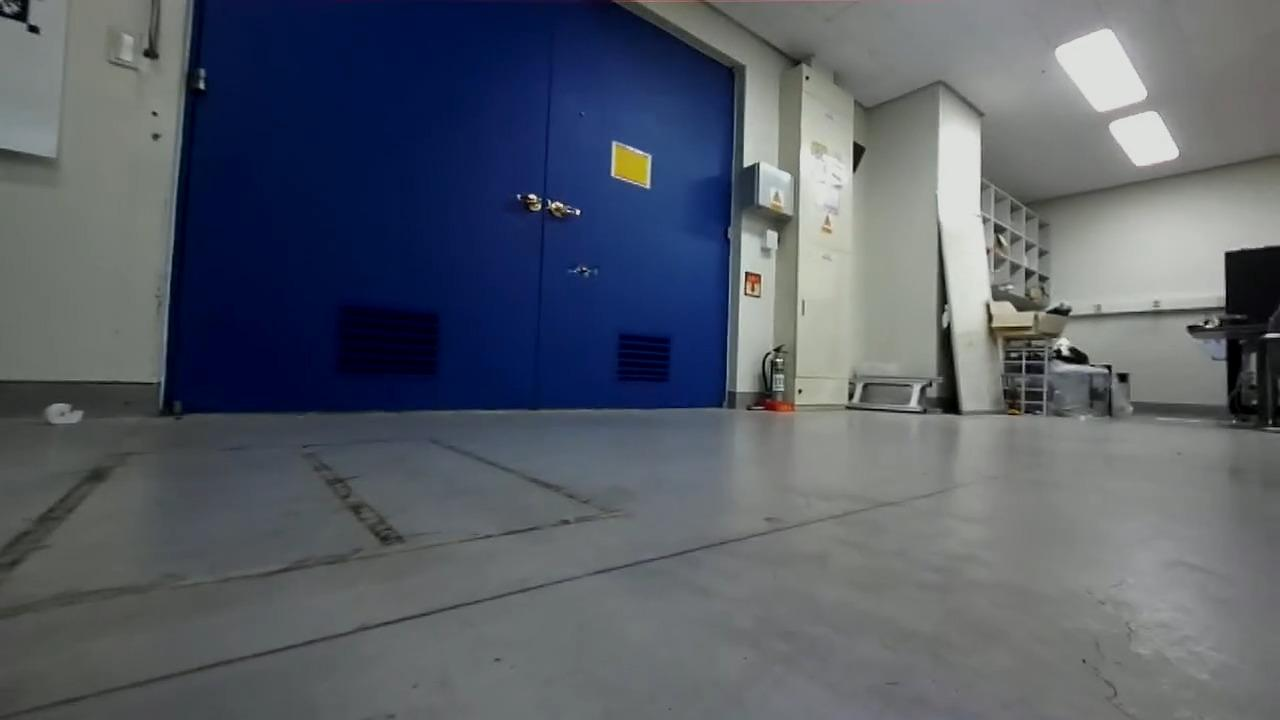crazyflie: (559, 256, 611, 283)
